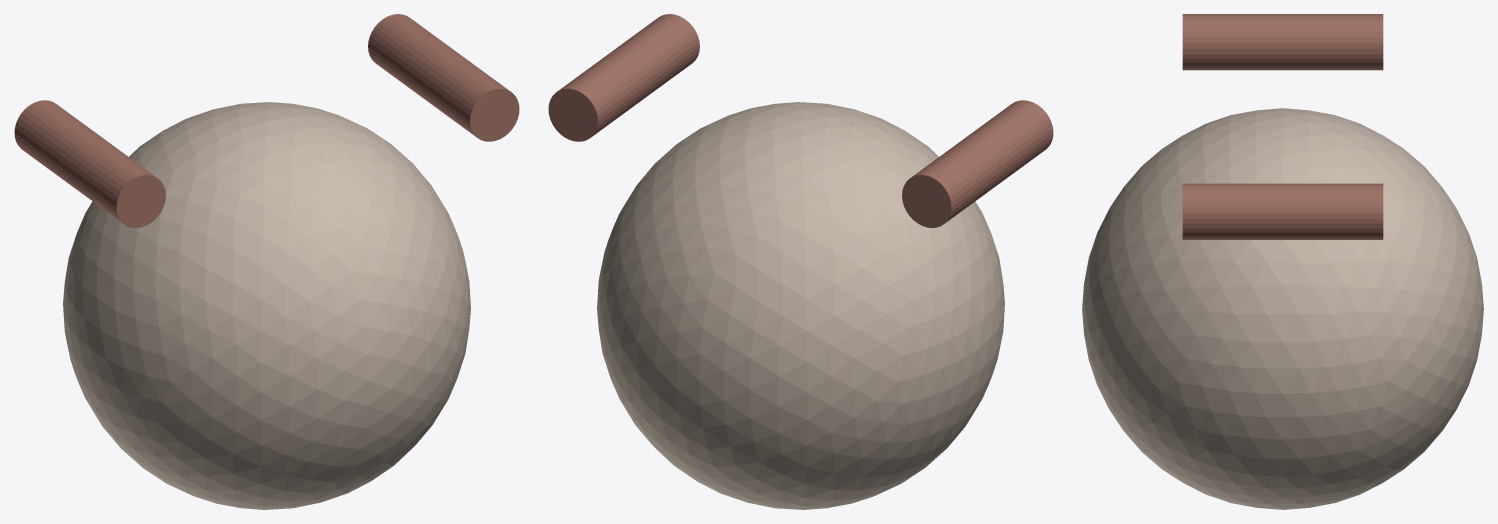
File: arborescens-triangulum.glb
3 renders of one model, left to right at view 1: azimuth 30°, elevation 25°; view 2: azimuth 150°, elevation 25°; view 3: azimuth 270°, elevation 25°, orthographic.
Visible parts, largest first — view 1: body, eye_2_1, head/body fusion mass_0_0; view 2: body, eye_2_1, head/body fusion mass_0_0; view 3: body, head/body fusion mass_0_0, eye_2_1.
Part boxes in pixels (box(x1,y1,x2,y2)): body: box(63, 102, 470, 509); eye_2_1: box(368, 14, 519, 141); head/body fusion mass_0_0: box(14, 100, 165, 227); body: box(597, 102, 1004, 509); eye_2_1: box(548, 14, 699, 141); head/body fusion mass_0_0: box(902, 100, 1053, 227); body: box(1082, 108, 1483, 509); head/body fusion mass_0_0: box(1182, 14, 1383, 70); eye_2_1: box(1182, 183, 1383, 239).
Size of the model in its own units: 0.684 by 0.642 by 0.6.
